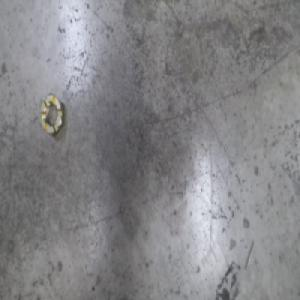Nut: (38, 89, 66, 138)
